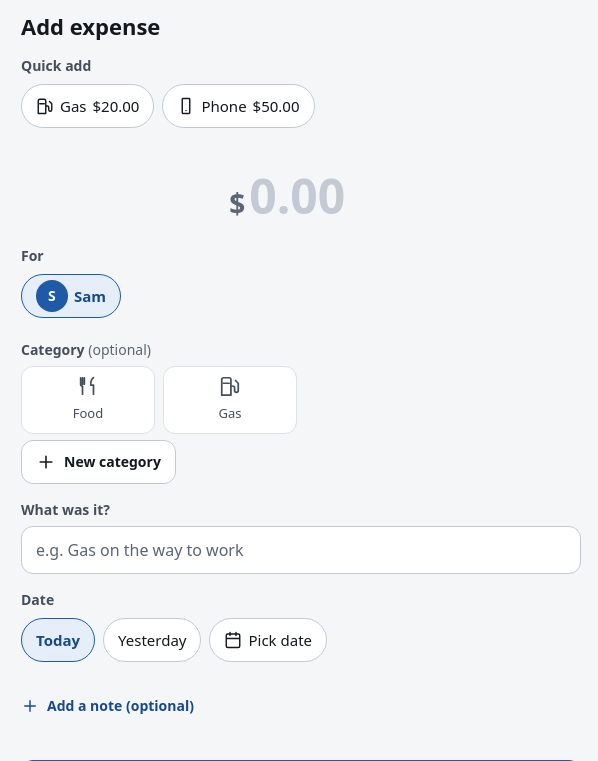
Test: AddExpensePage quick-add presets › prefills amount, category, and description from a clicked preset without submitting
Click the button "Gas $20.00".
click(88, 106)  # box [21,84,154,128]
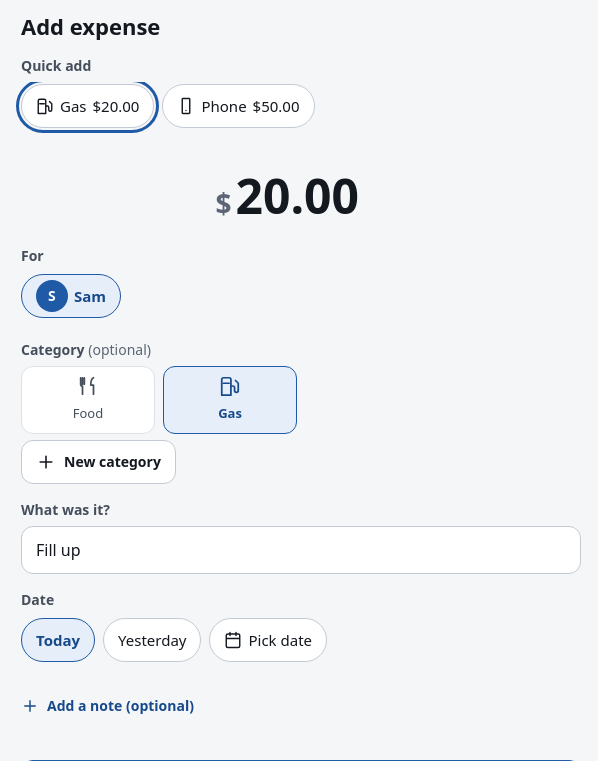
Check: the radio button labelled "Gas" is shown, box [163,366,297,434]
Check: the field named "Amount" holds "20.00", box [236,166,386,226]
Check: the field labelled "What was it?" holds "Fill up", box [21,526,581,574]
